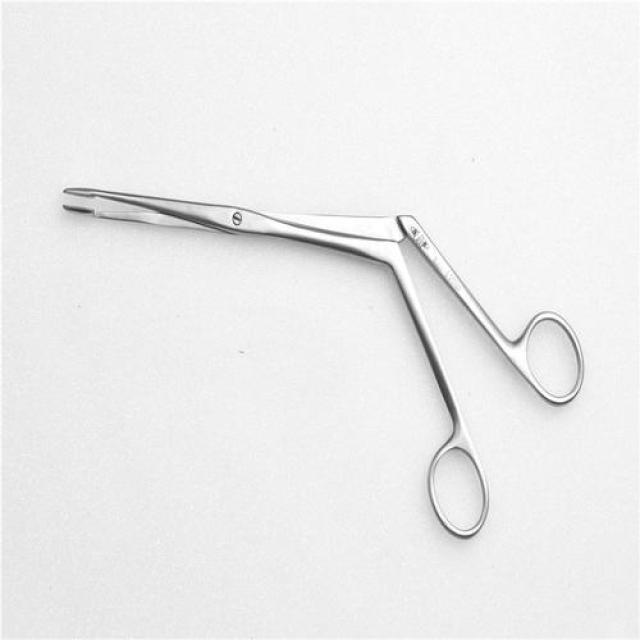B3: (11, 150, 614, 562)
